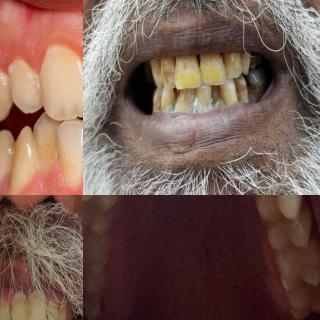Gum Swelling: (12, 34, 83, 71), (42, 161, 83, 195)
calculus: (208, 88, 226, 110), (162, 98, 180, 120), (176, 94, 192, 116), (194, 96, 212, 114), (248, 74, 262, 96)
cavities: (83, 292, 111, 320)
maligned: (41, 39, 83, 121), (57, 115, 83, 185), (12, 129, 38, 195), (33, 117, 58, 177), (208, 77, 225, 107), (172, 88, 180, 112)
plaque: (40, 44, 83, 90), (7, 53, 39, 87), (30, 284, 46, 316), (11, 288, 29, 314)
stains: (59, 135, 83, 189), (35, 135, 59, 176), (151, 91, 163, 113), (60, 300, 70, 320)
